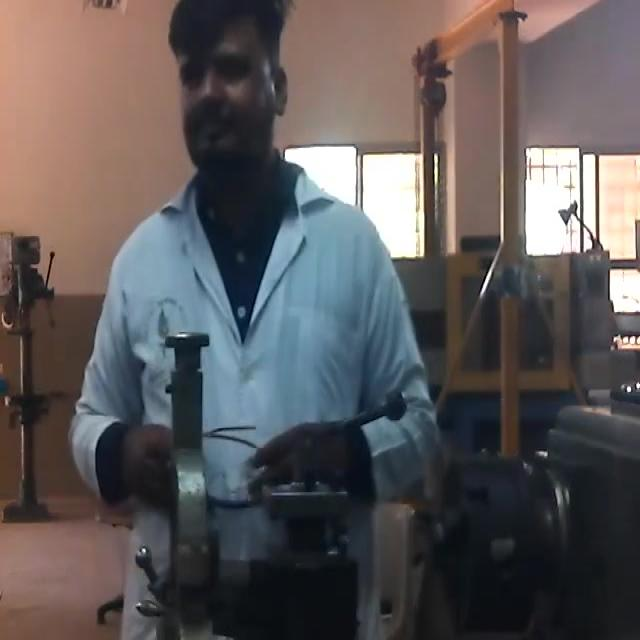labcoat: (71, 150, 438, 640)
